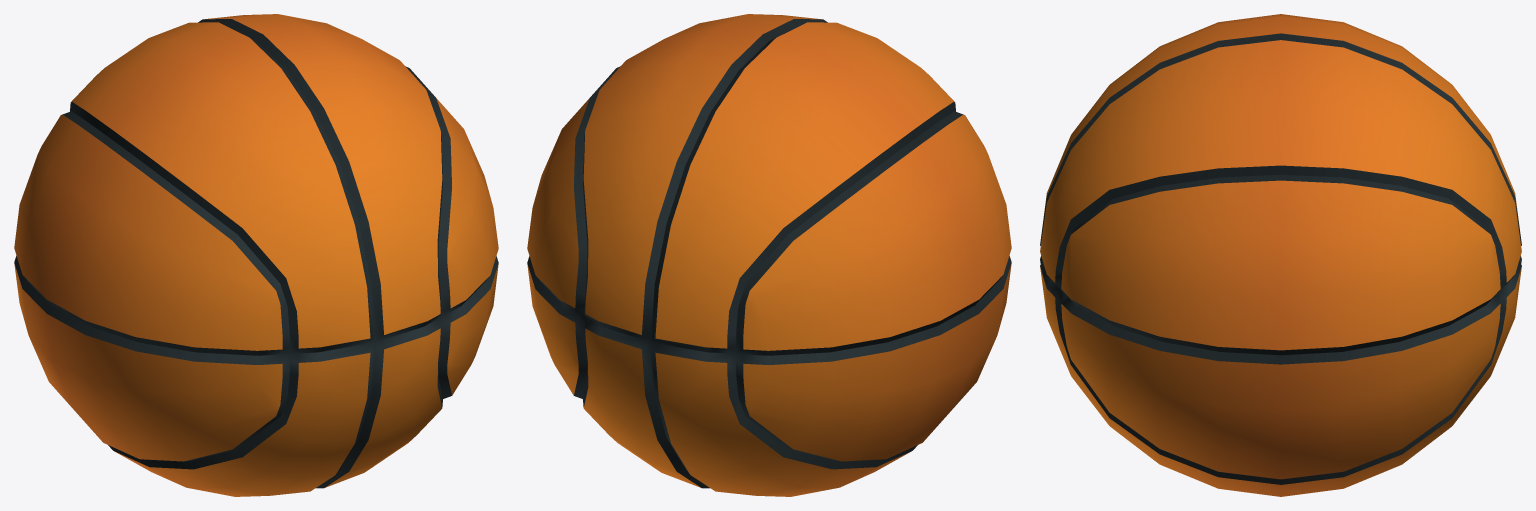
The model's file is basketball.obj.
The picture shows the model from 3 angles, left to right: view 1: azimuth 30°, elevation 25°; view 2: azimuth 150°, elevation 25°; view 3: azimuth 270°, elevation 25°; orthographic projection.
Visible parts, largest first — view 1: basketball; view 2: basketball; view 3: basketball.
Part boxes in pixels (box(x1,y1,x2,y2)): basketball: box(14, 14, 498, 496); basketball: box(527, 14, 1011, 496); basketball: box(1040, 14, 1521, 496).
Bounding box in the file's own units: 0.7383 × 0.7383 × 0.737.
1 material, 1 textured.
